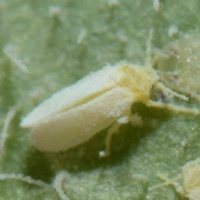insect: (21, 62, 176, 151)
